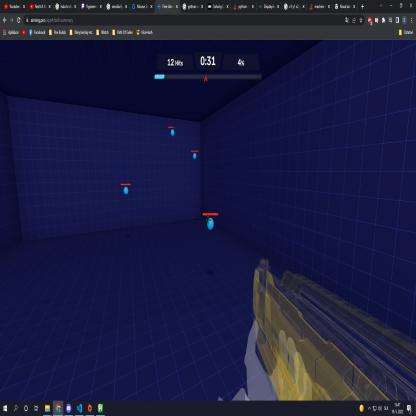sphere: (207, 217, 214, 230), (123, 186, 129, 194), (193, 152, 197, 160), (171, 129, 175, 136)
